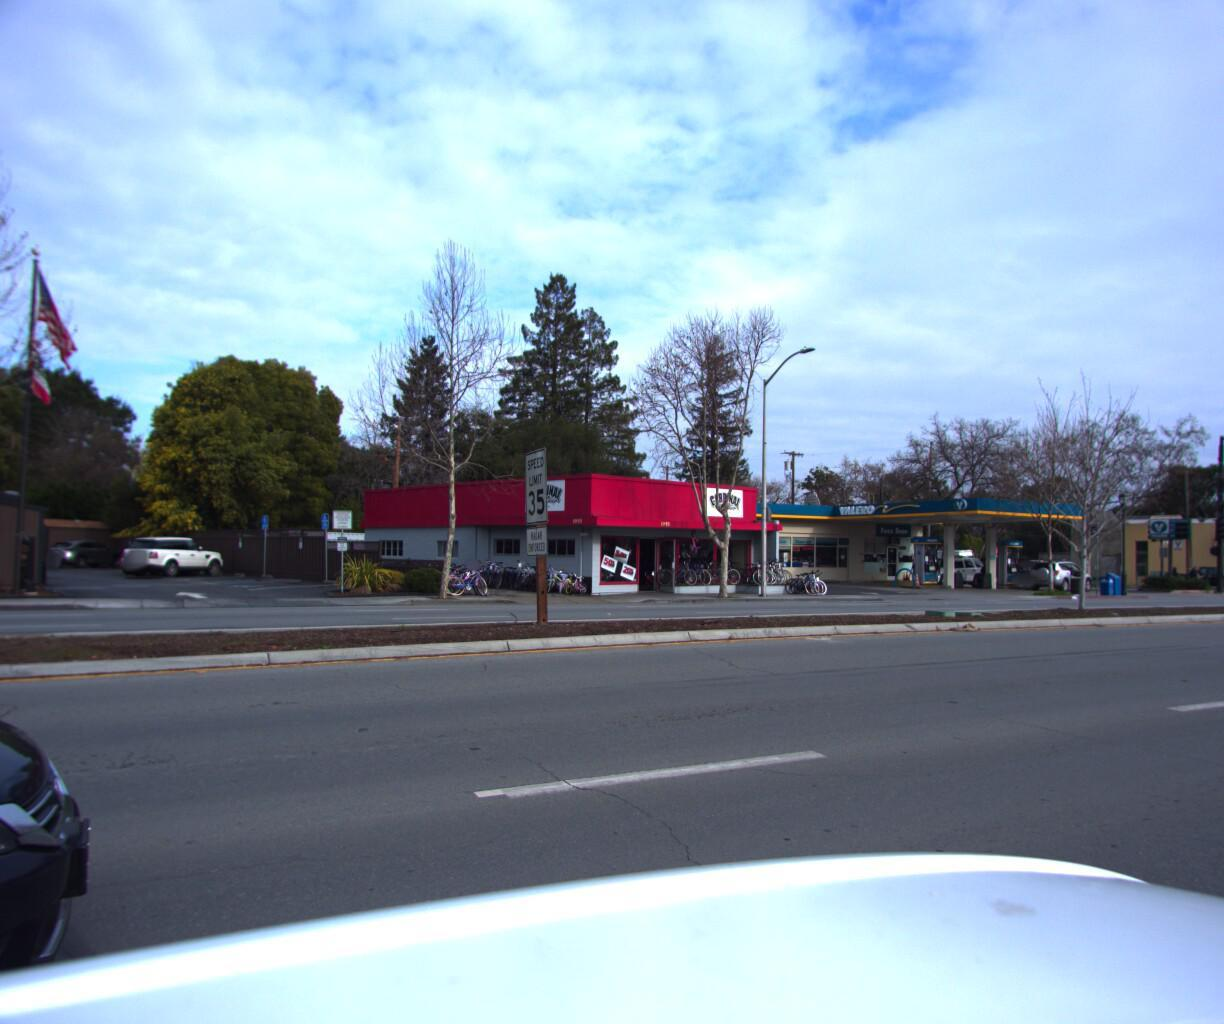bicycle: (451, 556, 492, 588), (457, 556, 497, 588), (783, 562, 829, 589), (788, 562, 834, 589), (511, 554, 547, 587), (505, 554, 541, 587), (482, 554, 518, 586), (487, 554, 523, 586), (477, 554, 512, 586), (516, 561, 553, 587), (542, 563, 576, 588), (554, 567, 582, 588), (563, 569, 589, 588)
car: (902, 548, 988, 581), (1016, 552, 1092, 586), (1156, 560, 1224, 587)
truck: (883, 542, 985, 581)
